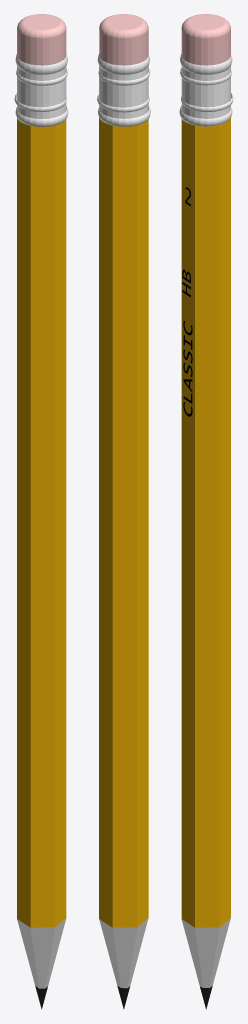
3 renders of one model, left to right at view 1: azimuth 90°, elevation 25°; view 2: azimuth 150°, elevation 25°; view 3: azimuth 270°, elevation 25°, orthographic.
Parts seen in each view (by area): view 1: pencil; view 2: pencil; view 3: pencil.
Boxes of the visible parts, left/top/right/bottom form: pencil: left=14, top=14, right=68, bottom=1009; pencil: left=97, top=14, right=150, bottom=1009; pencil: left=179, top=14, right=233, bottom=1009.
Size of the model in its own units: 27.36 by 561 by 27.81.
